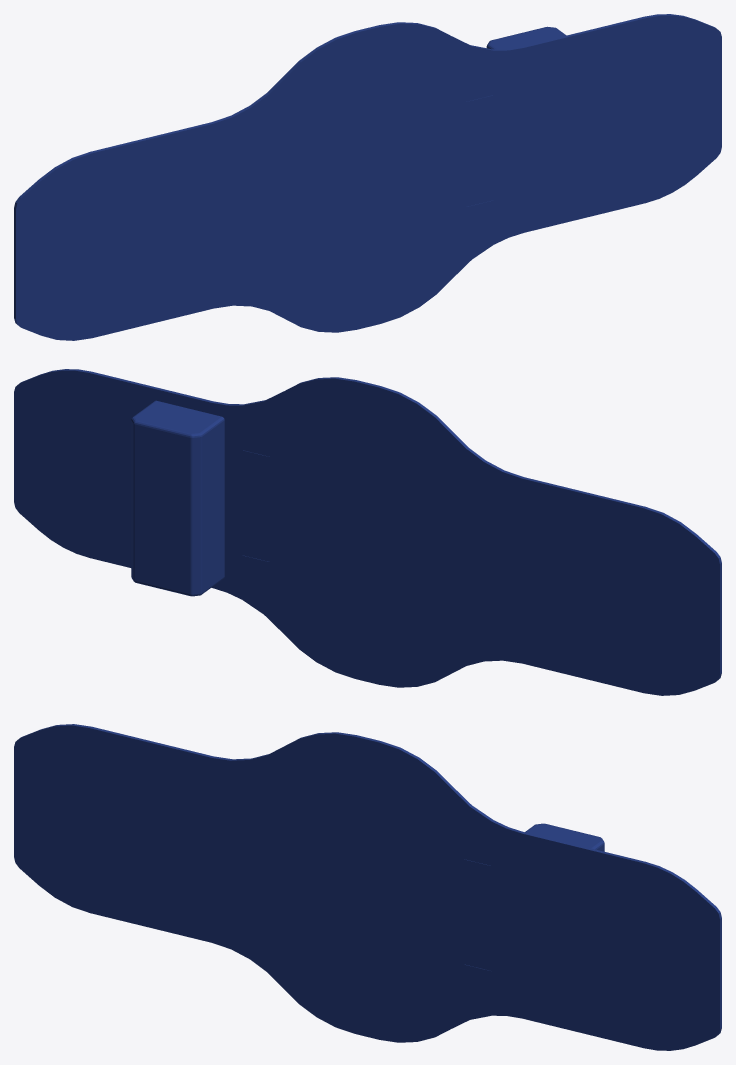
Rendered from top_plate_link.DAE.
3 renders of one model, top to bottom at view 1: azimuth 30°, elevation 25°; view 2: azimuth 150°, elevation 25°; view 3: azimuth 330°, elevation 25°, orthographic.
Parts seen in each view (by area): view 1: top_plate_link; view 2: top_plate_link; view 3: top_plate_link.
Part boxes in pixels (box(x1,y1,x2,y2)): top_plate_link: box(14, 14, 721, 340); top_plate_link: box(14, 369, 721, 695); top_plate_link: box(14, 724, 721, 1050).
Bounding box in the file's own units: 1.3 × 0.0914 × 0.522.
